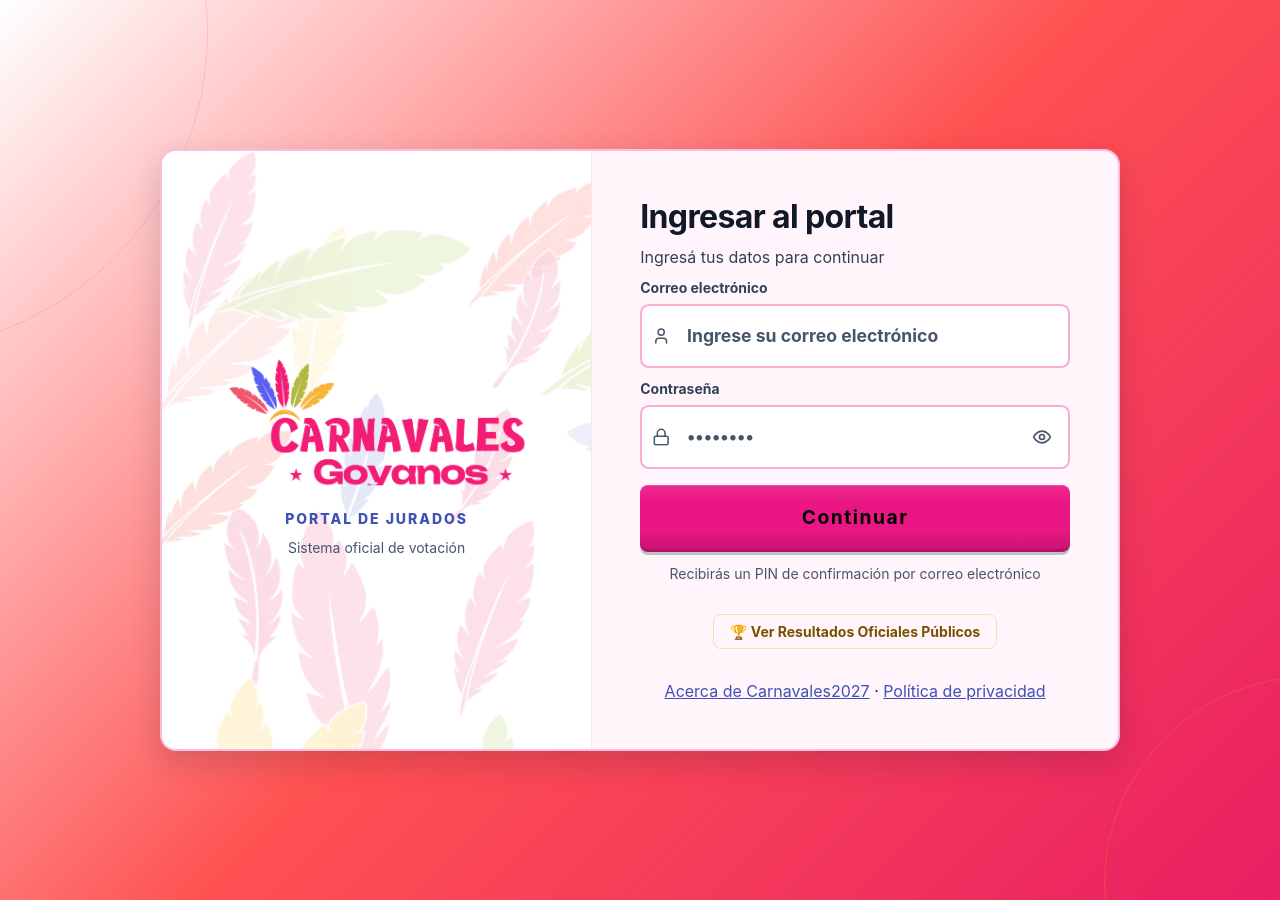
it: LoginPage › no vuelve a habilitar 2FA cuando el inicio de sesión ya requiere segundo factor
Type "admin@example.test" into the field labelled "Correo electrónico".
click(855, 336); type("admin@example.test")  # box x1=640 y1=304 x2=1070 y2=368
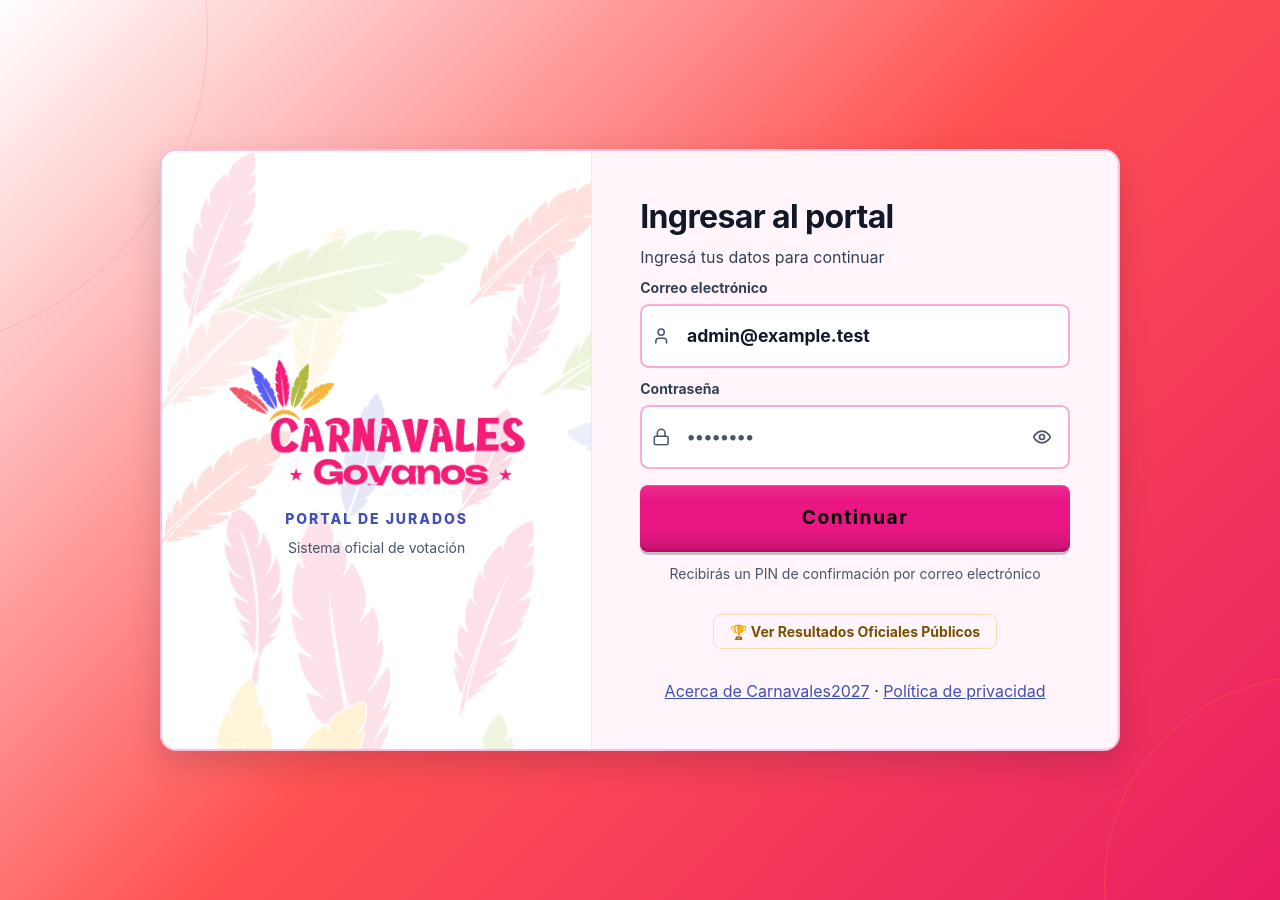
Type "local-password" into the password field labelled "Contraseña".
click(855, 437); type("local-password")  # box x1=640 y1=405 x2=1070 y2=469
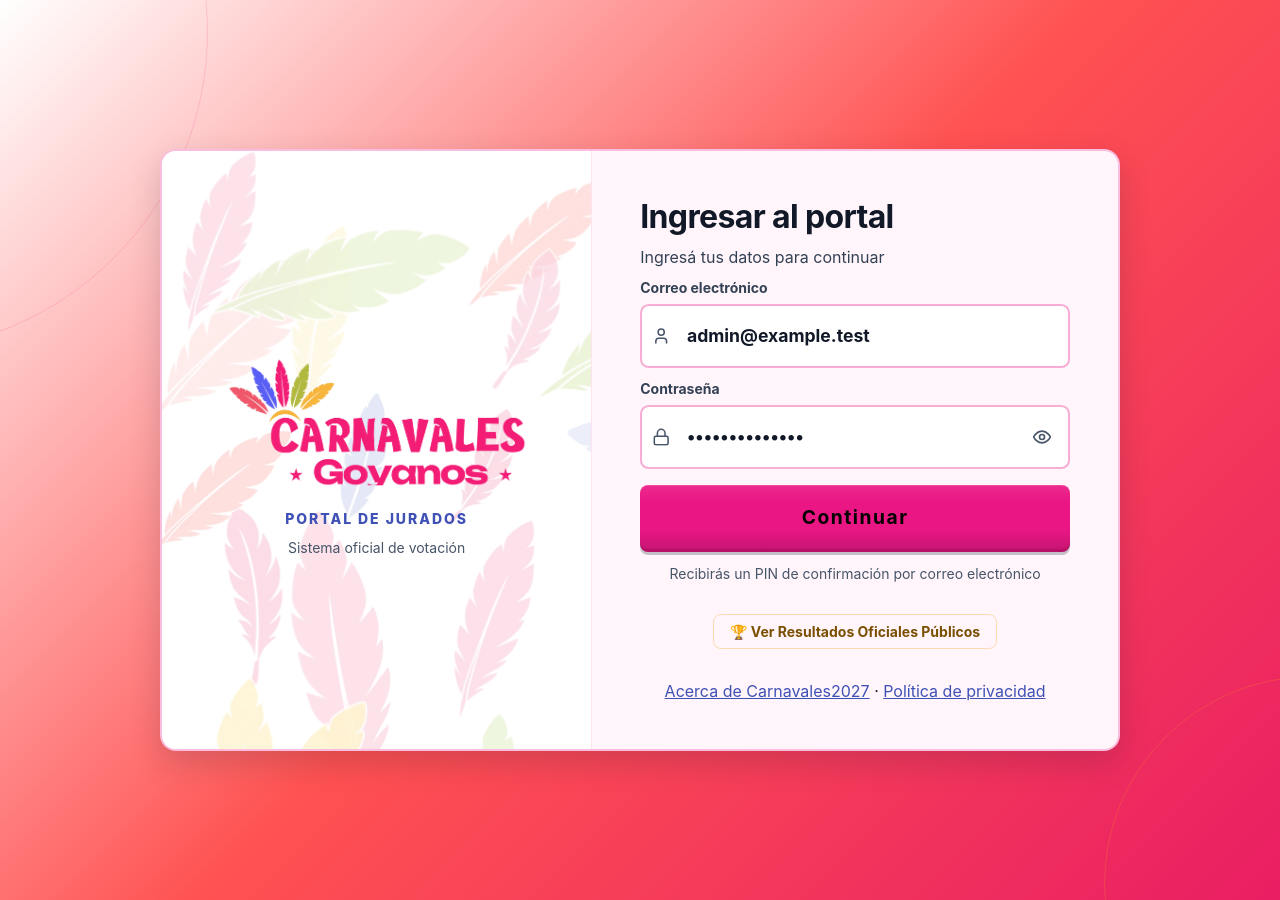
Click the button "Continuar".
click(855, 517)  # box x1=640 y1=485 x2=1070 y2=549
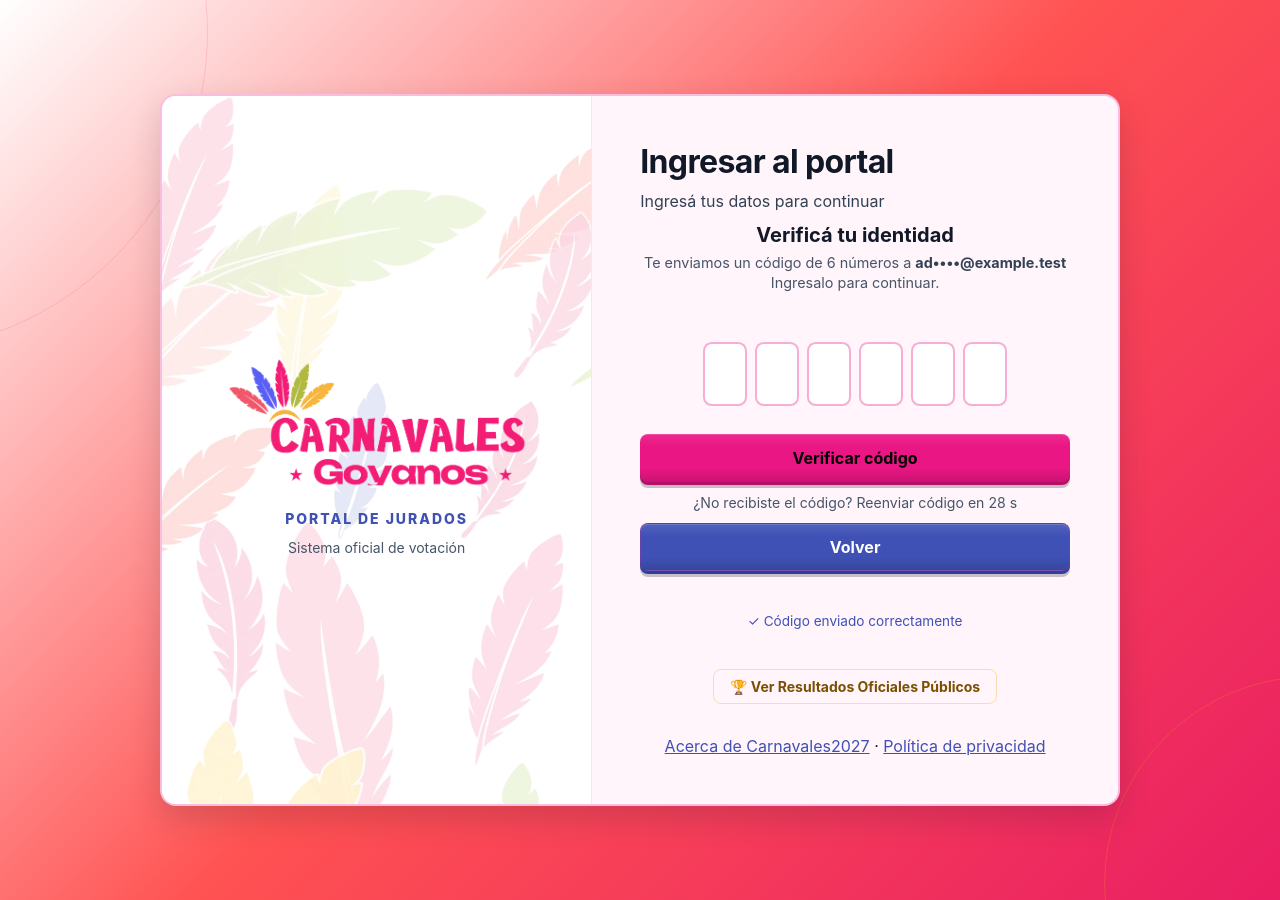
Check: the element named "Código de verificación" is shown, box x1=703 y1=342 x2=1007 y2=406
